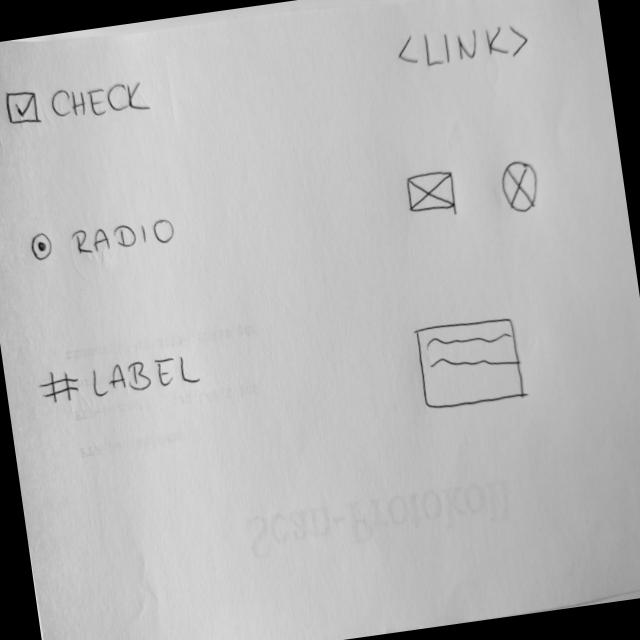checkbox: (4, 71, 156, 133)
image: (405, 166, 459, 218), (498, 156, 543, 218)
label: (36, 348, 206, 408)
link: (394, 16, 532, 74)
radio: (28, 212, 179, 266)
textarea: (413, 312, 530, 413)
